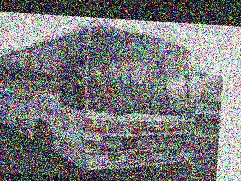bus: (0, 17, 207, 176)
